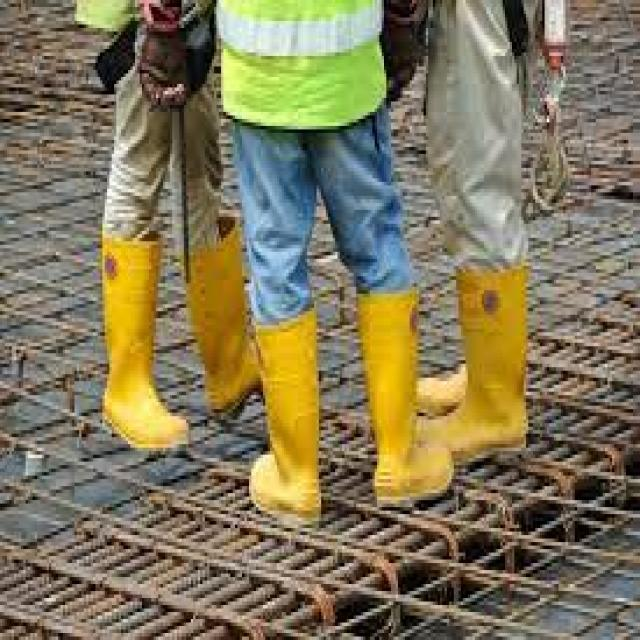shoes: (359, 267, 525, 502), (187, 232, 321, 519), (104, 237, 187, 448)
